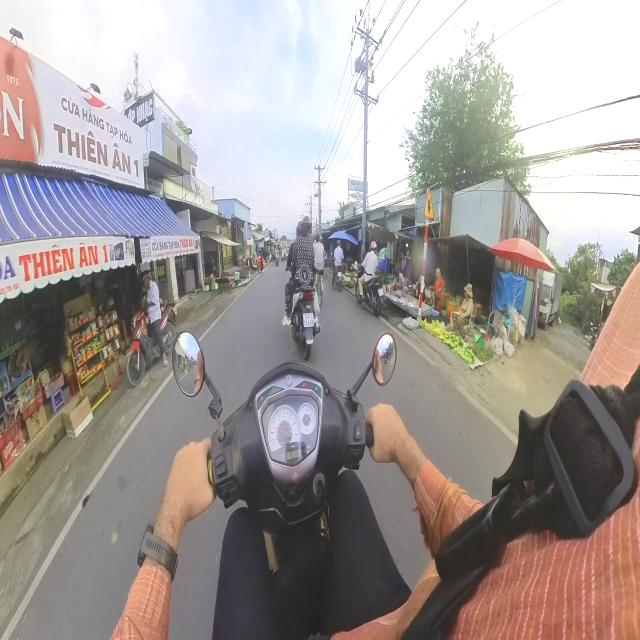motorcycle: (172, 332, 396, 637), (291, 266, 319, 360), (127, 310, 160, 386), (356, 277, 383, 317)
